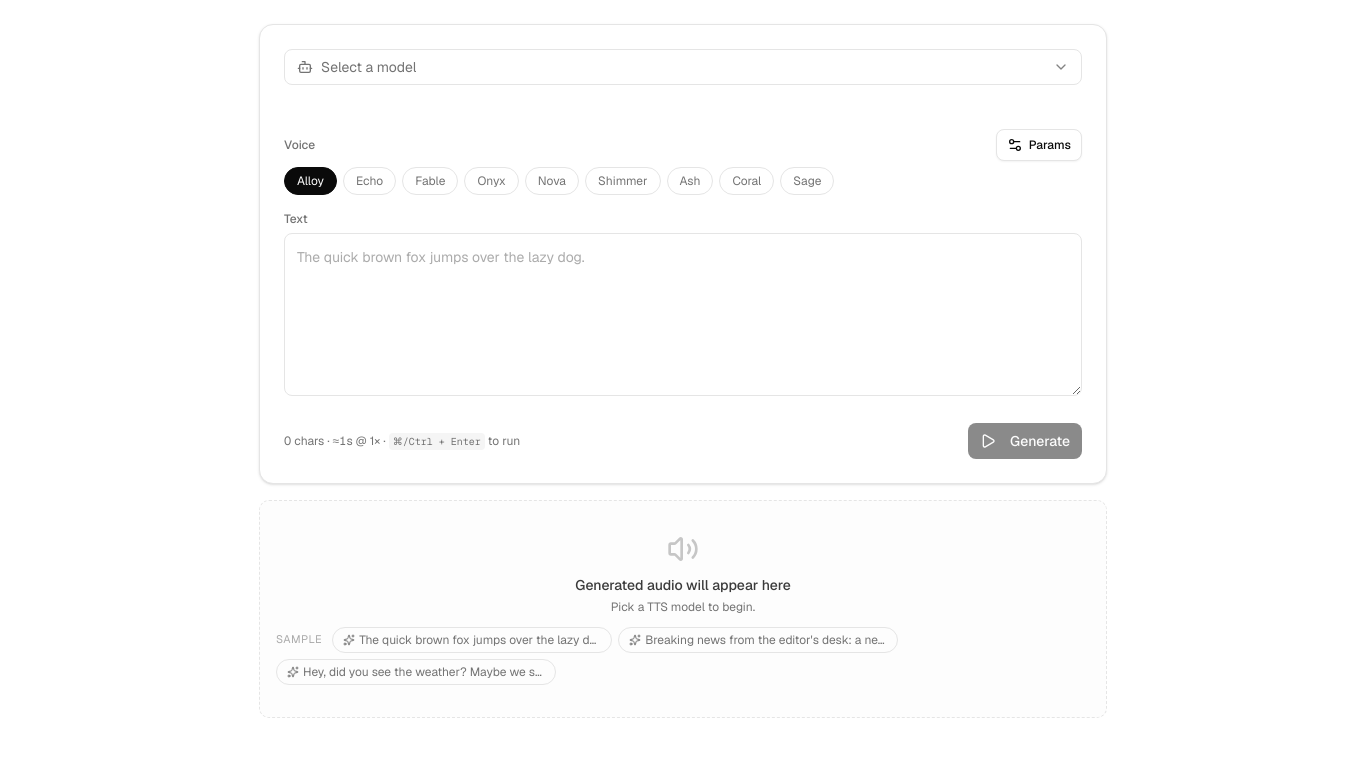
Test: SpeechPlayground — params popover › shows no badge with defaults, and a badge once a param diverges
Step 1. Click the button "Params" → (1039, 145), box [996,129,1082,161]
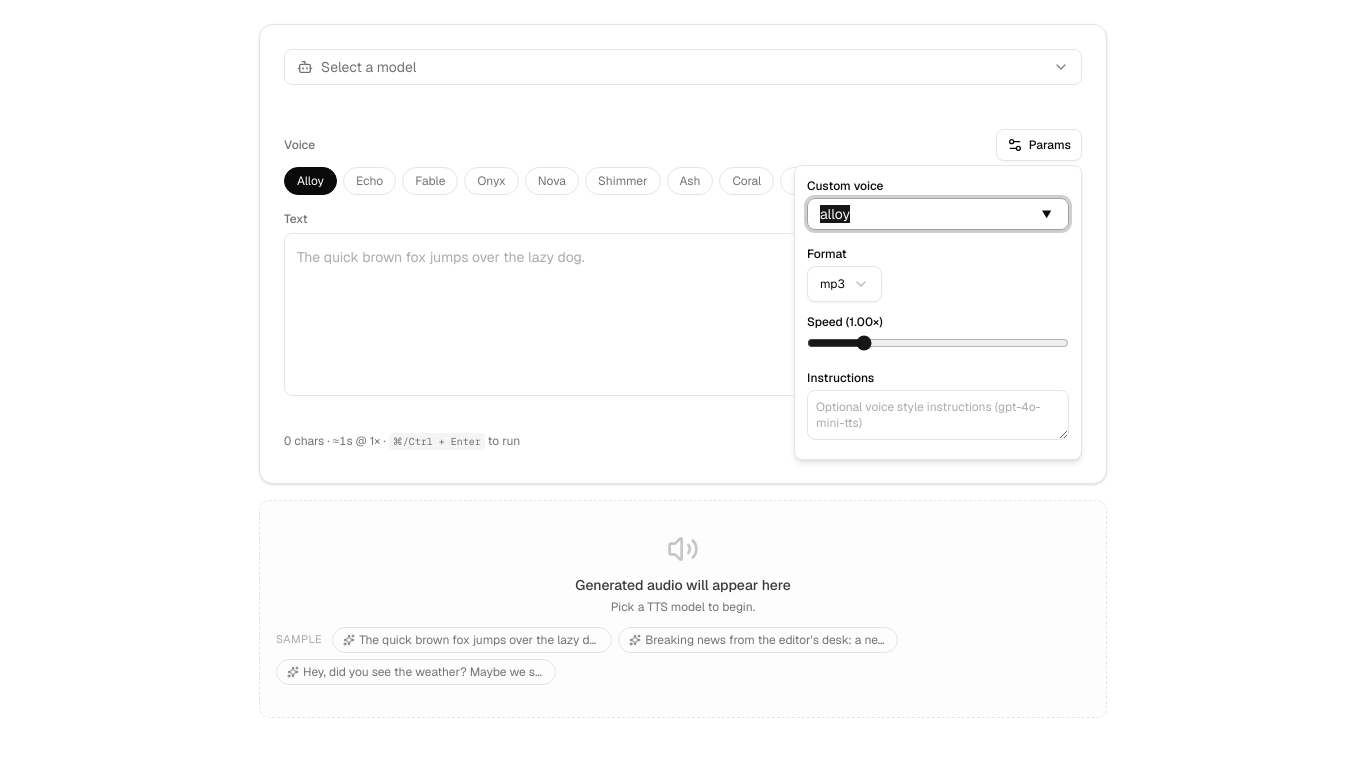
Step 2. Click the dropdown → (844, 284), box [807,266,882,302]
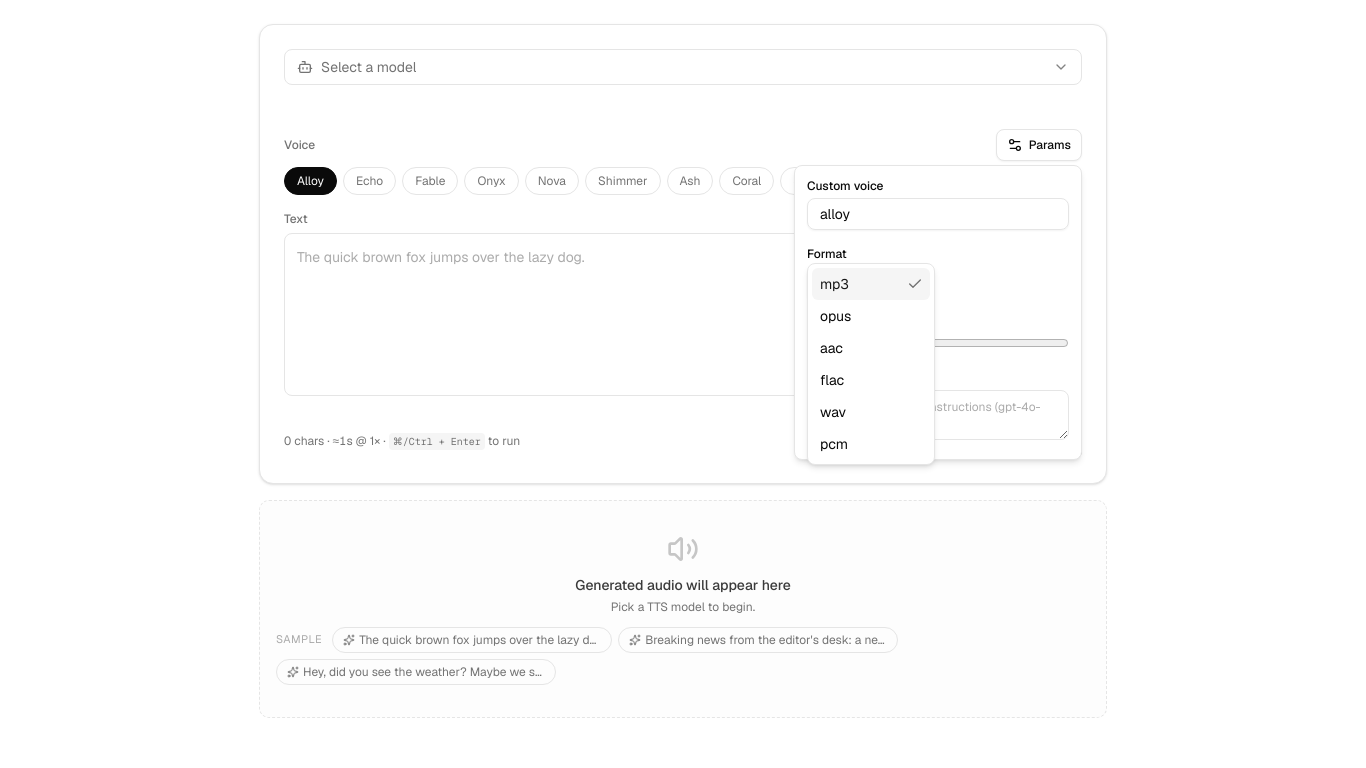
Step 3. Click the option "wav" → (833, 412), box [820,403,846,421]
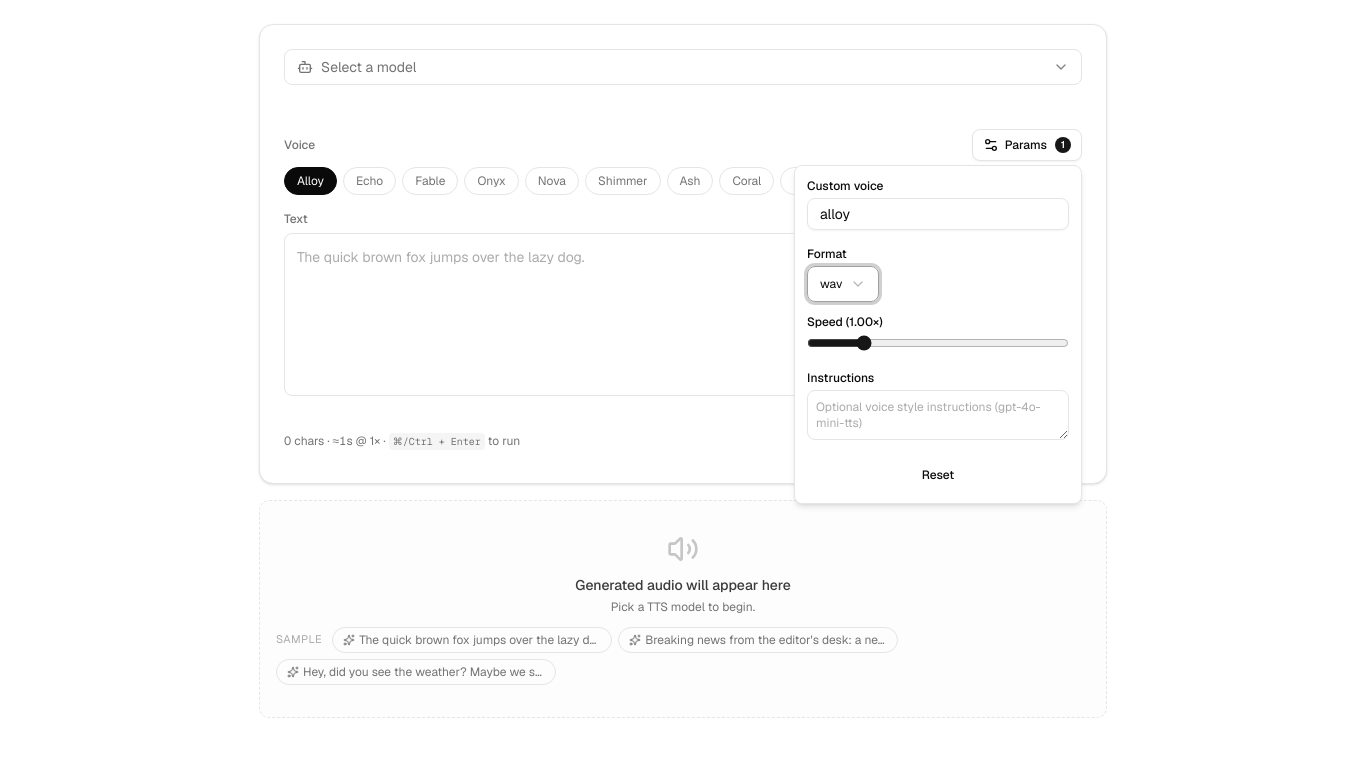
Expected: the text "wav" is shown, [820,276,842,292]
Expected: the 1st text "1" is shown, [1055,137,1071,153]
